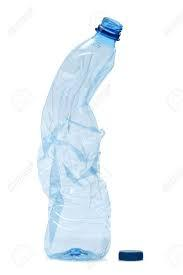plastic: (36, 14, 127, 255)
